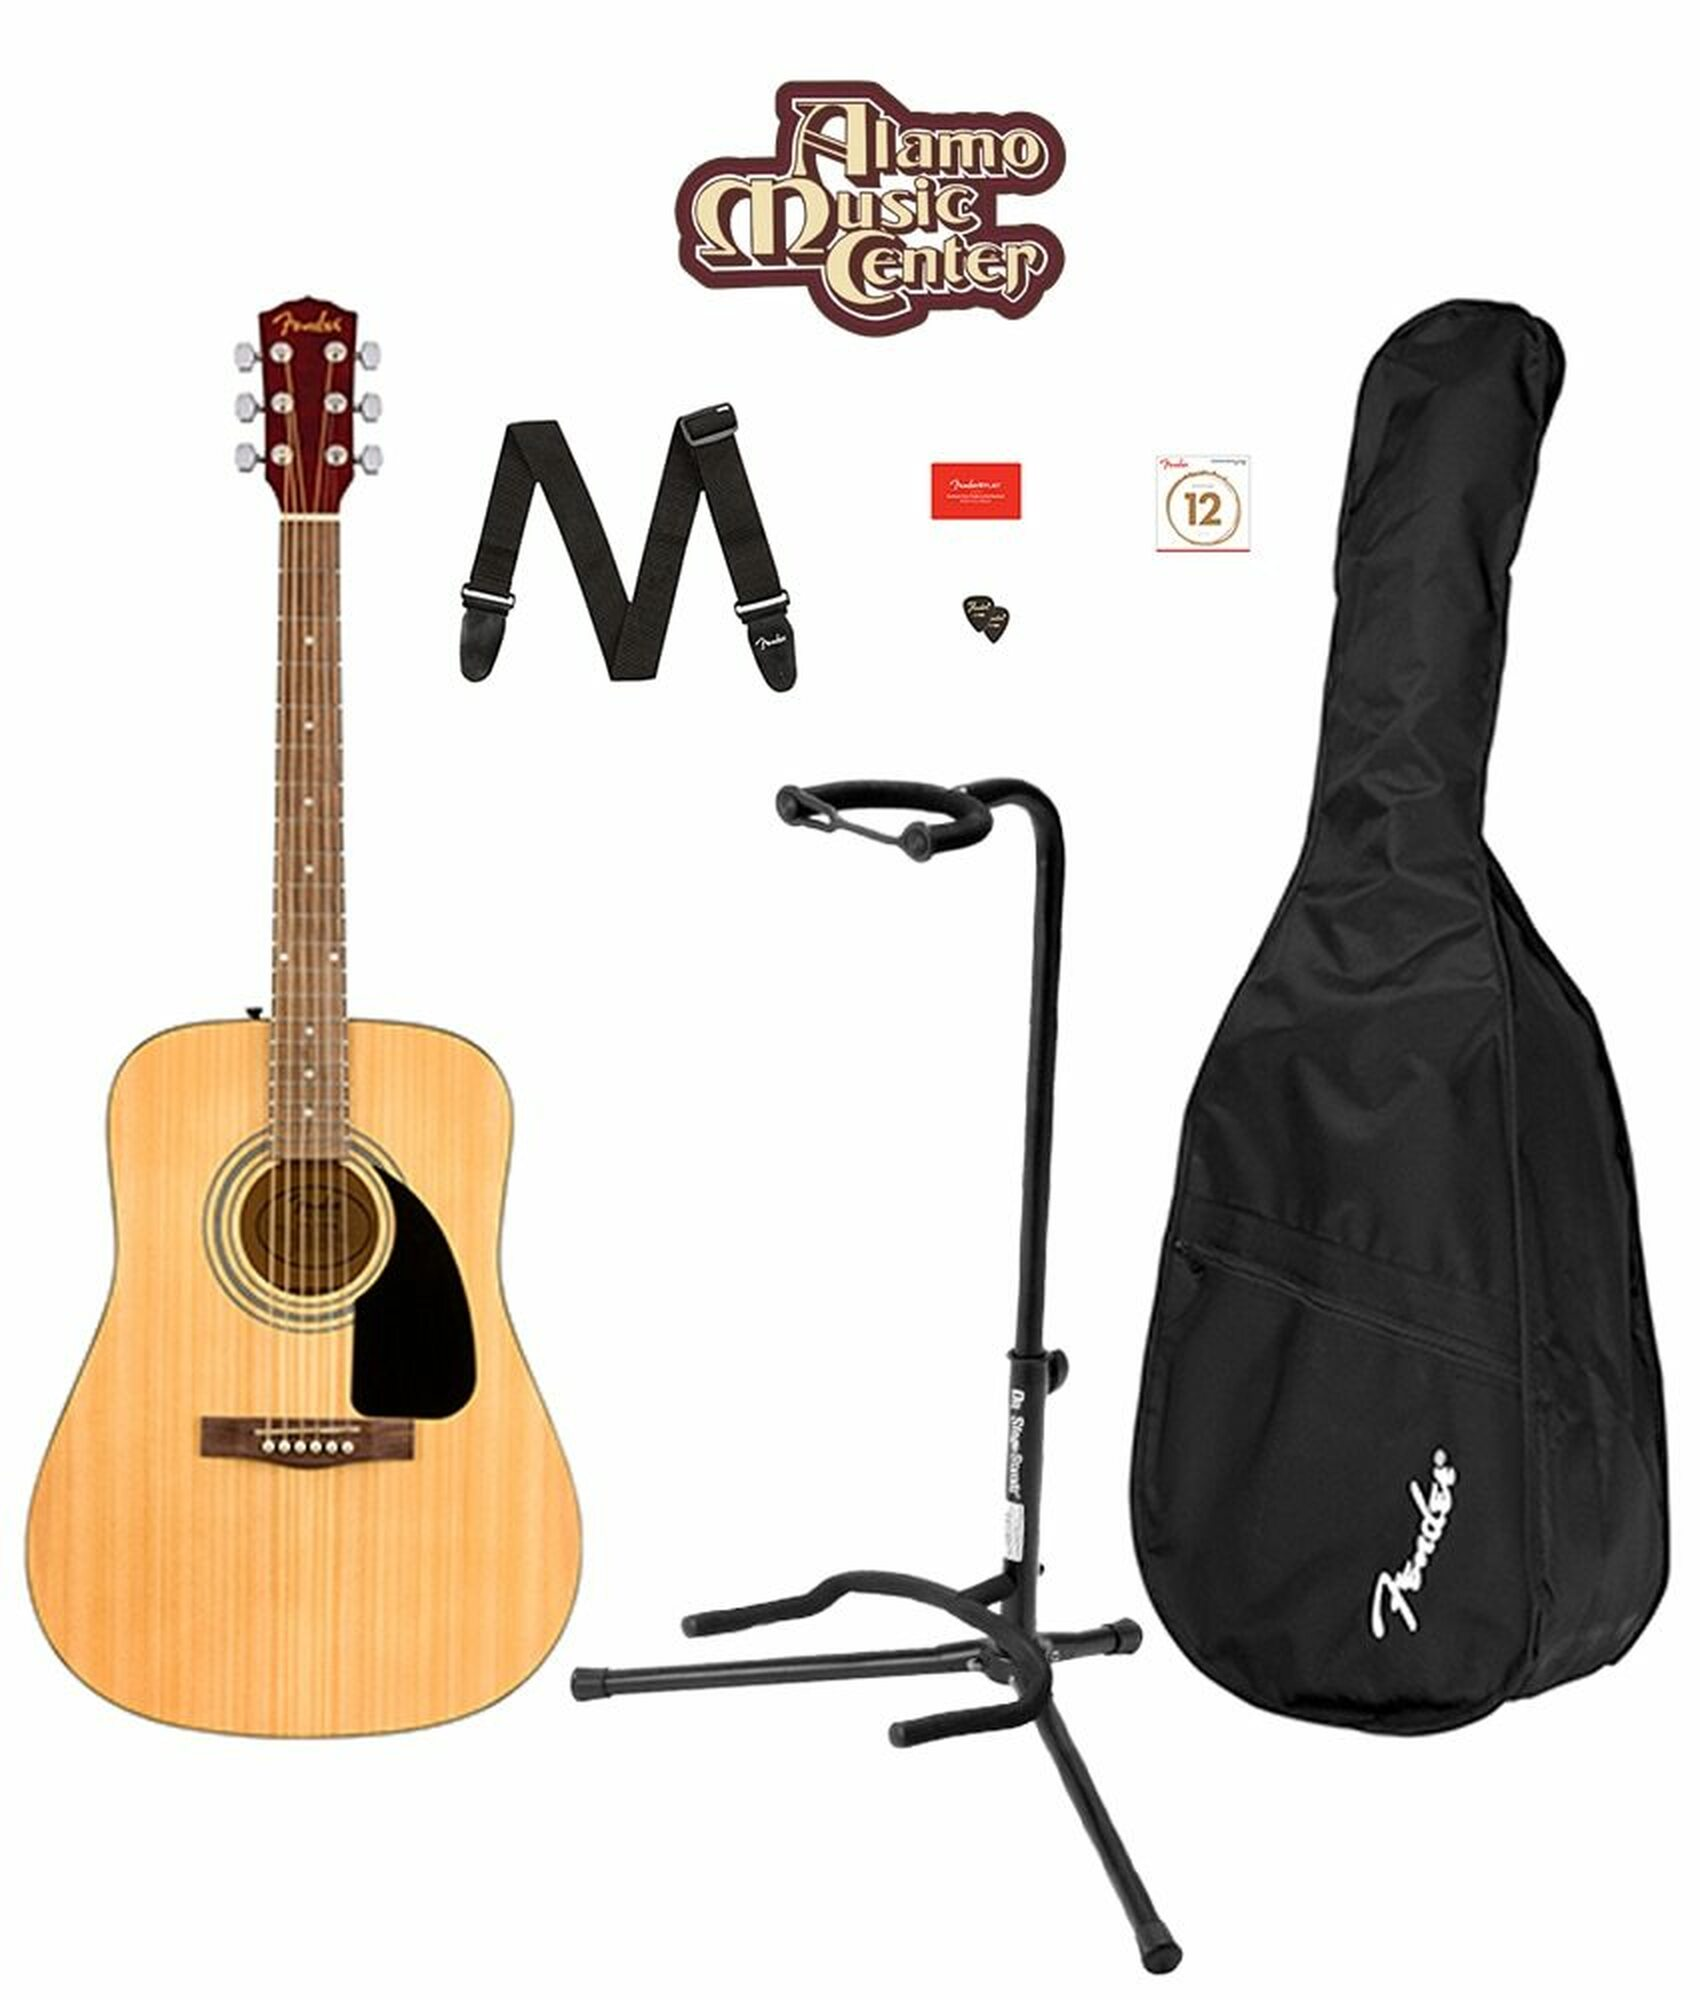guitar: (5, 283, 590, 1740)
